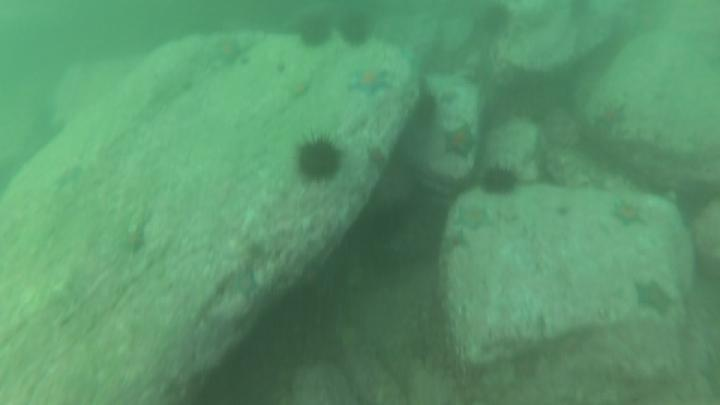echinus: (294, 137, 343, 182), (338, 9, 378, 51), (675, 186, 712, 225), (298, 12, 335, 50), (480, 161, 522, 194), (481, 4, 509, 39), (566, 1, 596, 21)
starfish: (632, 276, 679, 319), (441, 122, 483, 162), (348, 66, 396, 99), (450, 200, 494, 235), (209, 37, 247, 71), (438, 225, 473, 261), (610, 198, 648, 231), (596, 101, 631, 135), (699, 351, 720, 400), (279, 77, 314, 104), (55, 163, 86, 192), (363, 144, 391, 172), (438, 88, 463, 107)
